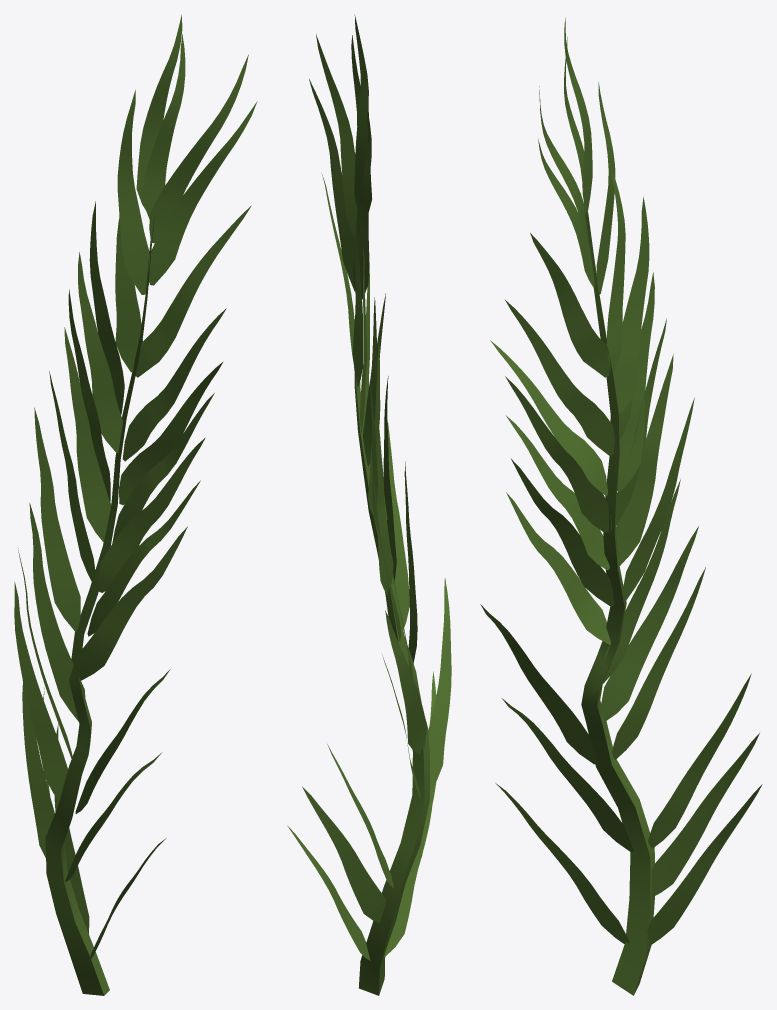
The model's file is plant_swamp_kelp_floor_C.fbx.
3 renders of one model, left to right at view 1: azimuth 30°, elevation 25°; view 2: azimuth 150°, elevation 25°; view 3: azimuth 270°, elevation 25°, orthographic. The views are drawn at different scales.
Visible parts, largest first — view 1: plant_swamp_kelp_floor_C; view 2: plant_swamp_kelp_floor_C; view 3: plant_swamp_kelp_floor_C.
Part boxes in pixels (x1,y1,x2,y2): plant_swamp_kelp_floor_C: (14, 14, 257, 995); plant_swamp_kelp_floor_C: (287, 14, 451, 995); plant_swamp_kelp_floor_C: (480, 18, 762, 995).
Bounding box in the file's own units: 52.52 × 298 × 76.29.
